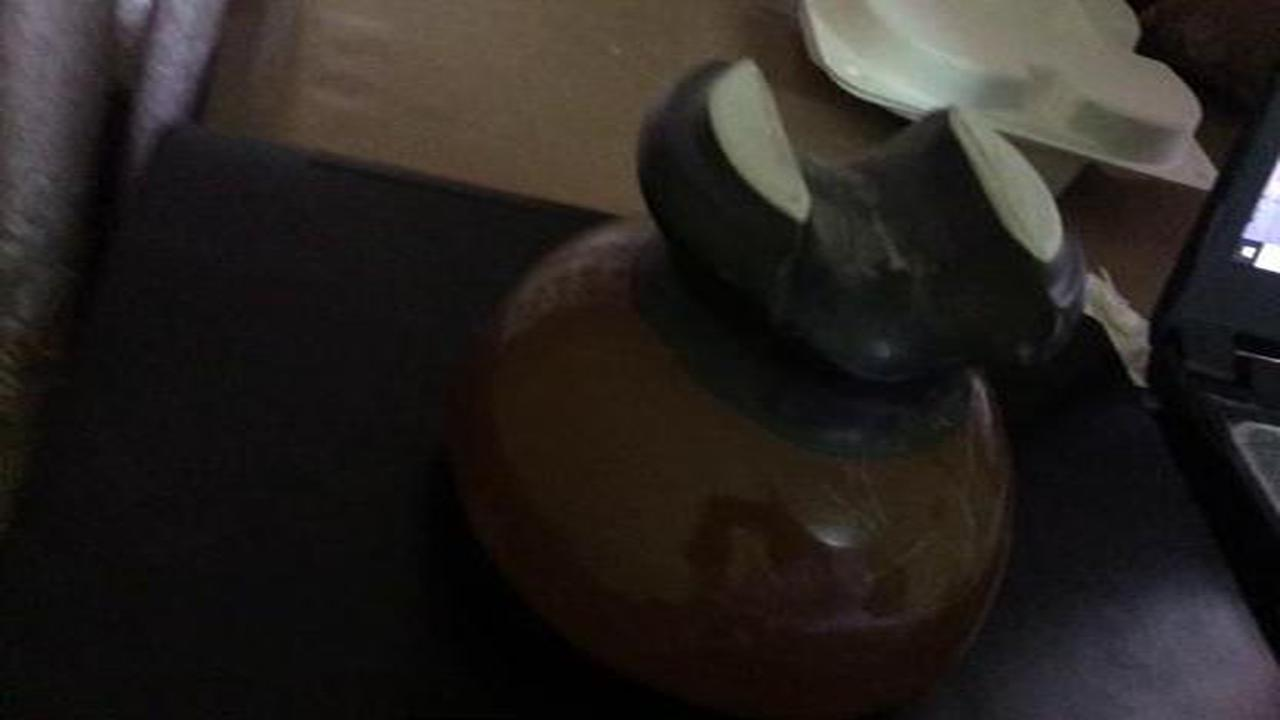insulator_pin: (428, 46, 1117, 693)
